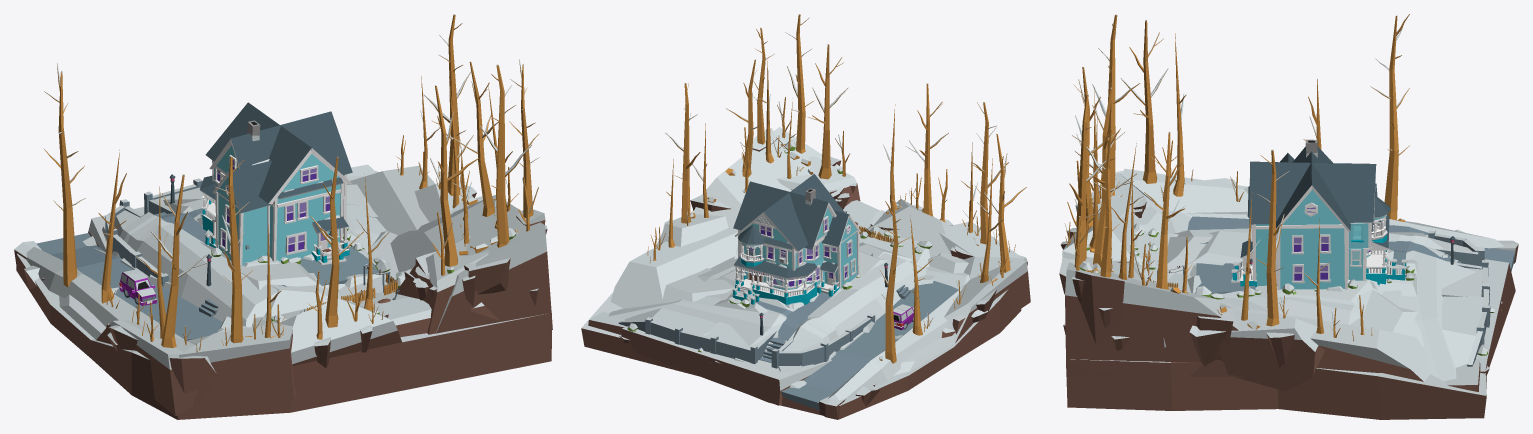
File: house.obj
3 views of the same model, side by side, from view 1: azimuth 30°, elevation 25°; view 2: azimuth 150°, elevation 25°; view 3: azimuth 270°, elevation 25° (orthographic). The views are drawn at different scales.
Parts seen in each view (by area): view 1: group2060585404, group1504191420, group101140434, group154548097, group231707998, group1624478577, group1617572247, group1108866900, group990022888, group1355921627, group1472510813, group1355497569 (+23 smaller); view 2: group2060585404, group154548097, group1504191420, group1742717586, group1617572247, group101140434, group1108866900, group990022888, group1355921627, group1624478577, group231707998, group1355497569 (+24 smaller); view 3: group2060585404, group1504191420, group101140434, group154548097, group1280178183, group1617572247, group1355921627, group1145969062, group1196403785, group1742717586, group1374377478, group121120412 (+30 smaller).
Part boxes in pixels (left/top/right/bottom): group2060585404: left=196, top=102, right=352, bottom=266; group1504191420: left=16, top=171, right=551, bottom=419; group101140434: left=390, top=195, right=552, bottom=333; group154548097: left=112, top=175, right=386, bottom=327; group231707998: left=179, top=323, right=296, bottom=413; group1624478577: left=279, top=298, right=401, bottom=365; group1617572247: left=347, top=165, right=435, bottom=235; group1108866900: left=52, top=245, right=222, bottom=340; group990022888: left=26, top=247, right=184, bottom=340; group1355921627: left=96, top=320, right=198, bottom=416; group1472510813: left=395, top=235, right=489, bottom=334; group1355497569: left=251, top=291, right=499, bottom=337; group2060585404: left=729, top=174, right=860, bottom=309; group154548097: left=608, top=253, right=928, bottom=359; group1504191420: left=581, top=289, right=1021, bottom=419; group1742717586: left=621, top=326, right=831, bottom=405; group1617572247: left=610, top=228, right=737, bottom=308; group101140434: left=693, top=127, right=842, bottom=254; group1108866900: left=803, top=281, right=958, bottom=391; group990022888: left=828, top=286, right=963, bottom=400; group1355921627: left=944, top=259, right=1030, bottom=343; group1624478577: left=867, top=199, right=950, bottom=257; group231707998: left=939, top=222, right=1022, bottom=279; group1355497569: left=843, top=200, right=930, bottom=268; group2060585404: left=1231, top=139, right=1415, bottom=289; group1504191420: left=1066, top=359, right=1486, bottom=419; group101140434: left=1065, top=262, right=1242, bottom=376; group154548097: left=1174, top=228, right=1475, bottom=380; group1280178183: left=1218, top=310, right=1324, bottom=391; group1617572247: left=1236, top=307, right=1430, bottom=381; group1355921627: left=1121, top=168, right=1248, bottom=217; group1145969062: left=1075, top=271, right=1124, bottom=344; group1196403785: left=1442, top=295, right=1483, bottom=367; group1742717586: left=1476, top=259, right=1515, bottom=370; group1374377478: left=1370, top=14, right=1409, bottom=220; group121120412: left=1350, top=290, right=1423, bottom=346.
Bounding box in the file's own units: 6.01 × 4.4 × 6.26.
